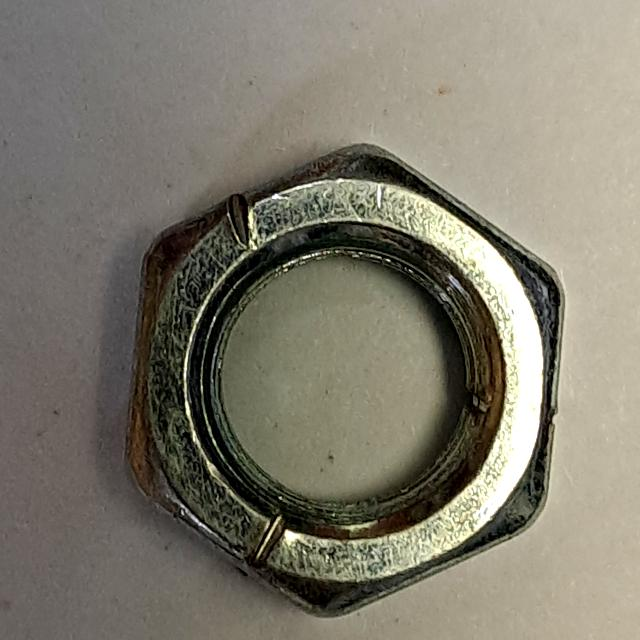Scratches: (104, 136, 581, 631)
